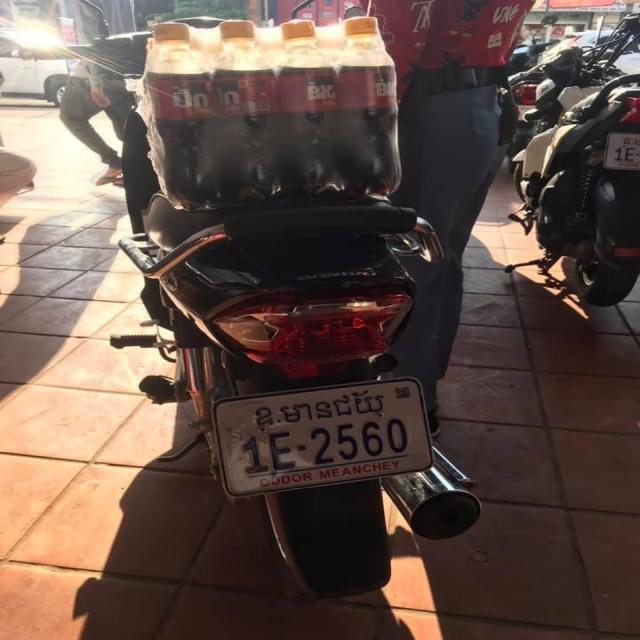Oudor_Meanchey: (255, 390, 383, 427)
